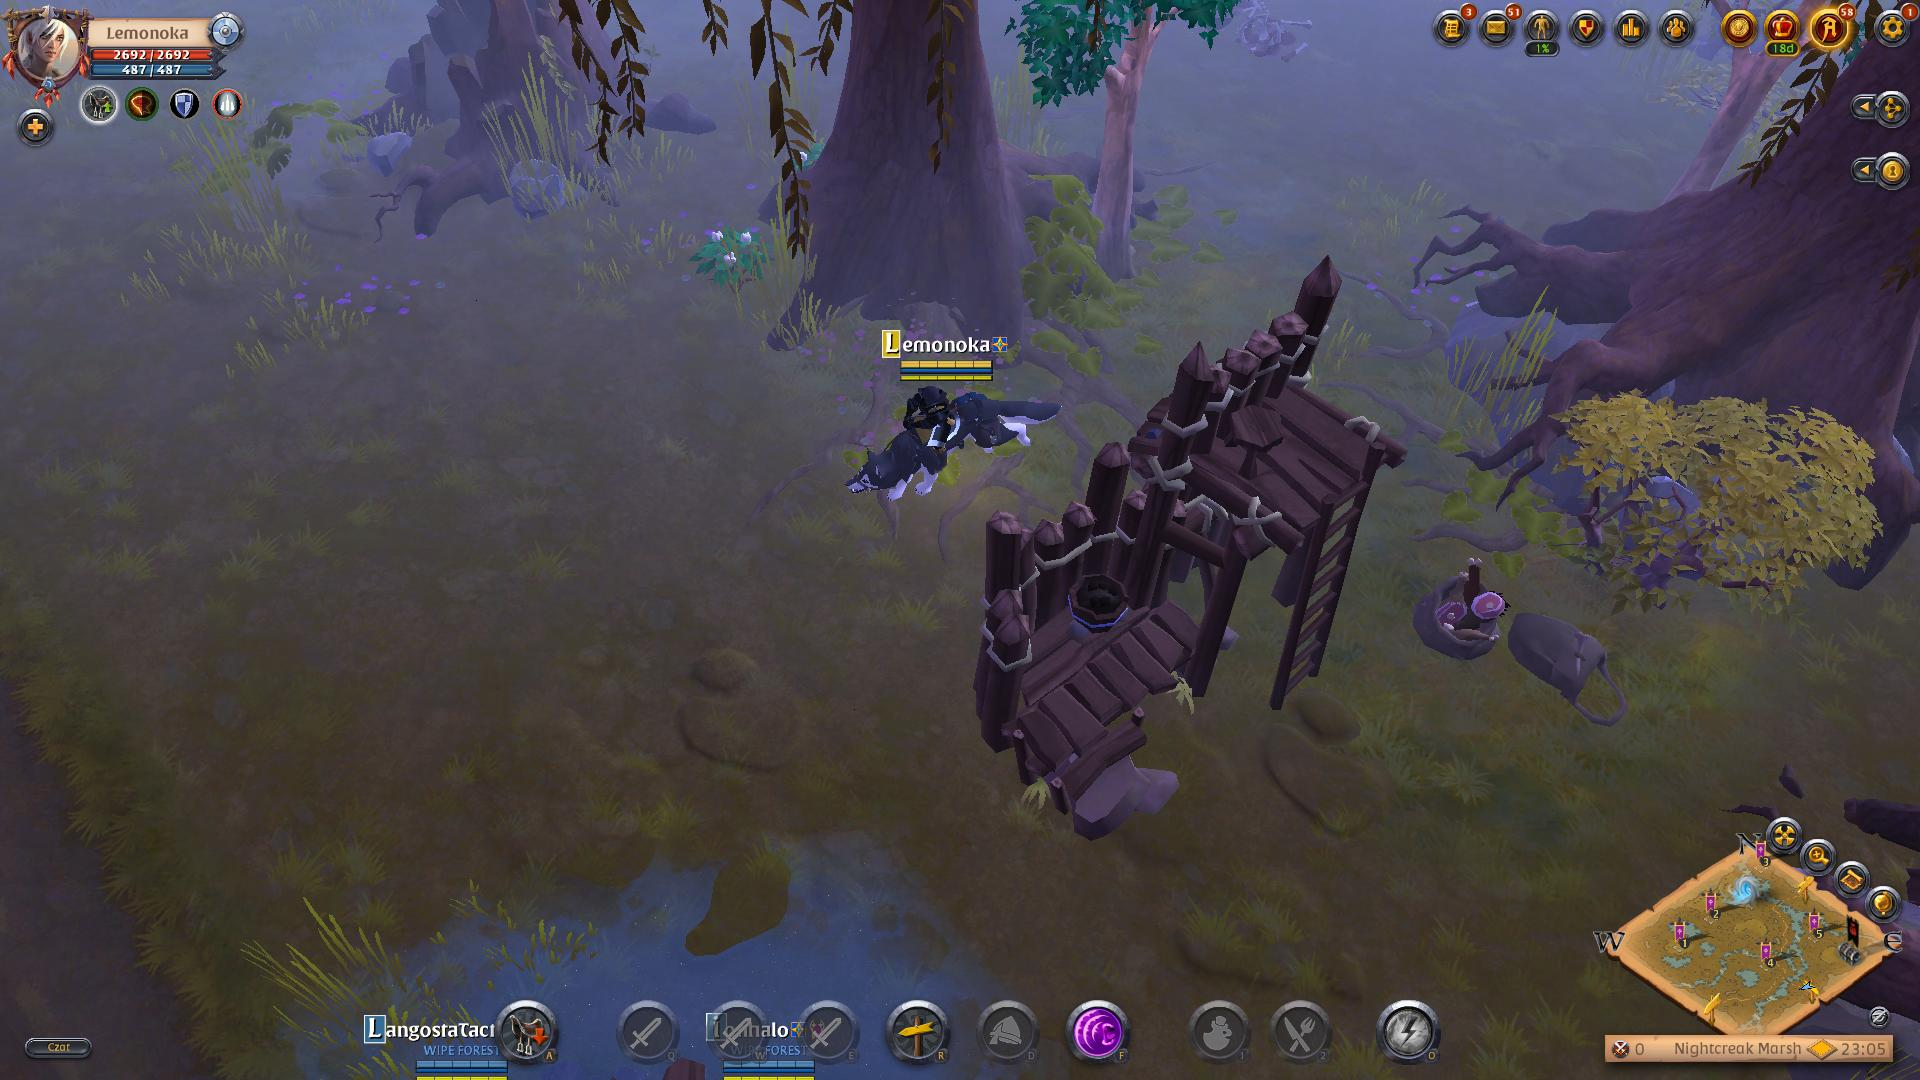fiber tier 3: (688, 220, 775, 295)
